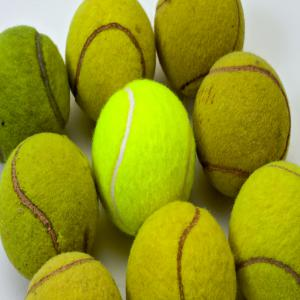TennisBall: (1, 1, 300, 300), (92, 78, 196, 238)
